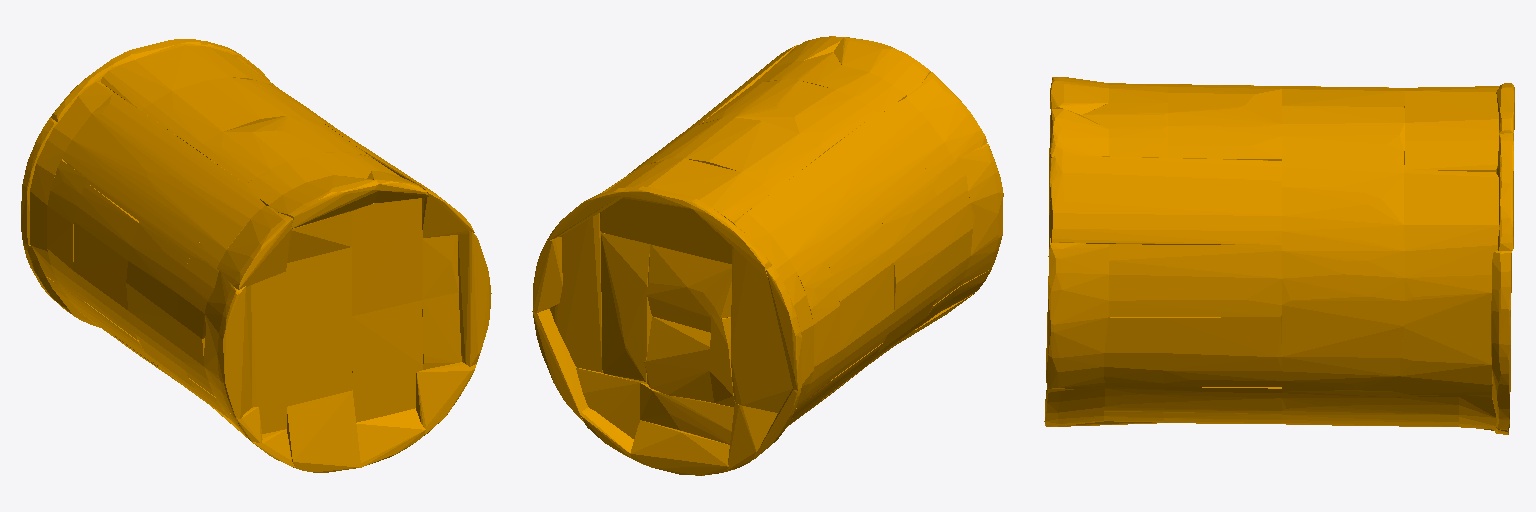
robot.urdf — can-concentrated:
<?xml version="1.0" ?>
<robot name="can-concentrated">
  <link name="baseLink">
    <contact>
      <lateral_friction value="1.0"/>
      <inertia_scaling value="3.0"/>
    </contact>
    <inertial>
      <origin rpy="0 0 0" xyz="0.000 0.000 0.000"/>
       <mass value=".1"/>
       <inertia ixx="1" ixy="0.0" ixz="0.0" iyy="1" iyz="0.0" izz="1"/>
    </inertial>
    <visual>
      <origin rpy="0 0 0" xyz="0 0 0"/>
      <geometry>
        <mesh filename="can/can-concentrated_tall.obj" scale="1.0 1.0 1.0"/>
      </geometry>
    </visual>
    <collision>
      <origin rpy="0 0 0" xyz="0 0 0"/>
      <geometry>
        <mesh filename="../collision/can/can-concentrated_tall.obj" scale="1.0 1.0 1.0"/>
      </geometry>
    </collision>
  </link>
</robot>
        

--- Render facts (derived) ---
The picture shows the robot from 3 angles, left to right: view 1: azimuth 30°, elevation 25°; view 2: azimuth 150°, elevation 25°; view 3: azimuth 270°, elevation 25°; orthographic projection.
Robot: can-concentrated — 1 links, 0 joints (none); root link baseLink; default pose: every joint at zero.
Links seen in each view (by area): view 1: baseLink; view 2: baseLink; view 3: baseLink.
Boxes of the visible links, left/top/right/bottom form: baseLink: left=21, top=39, right=491, bottom=472; baseLink: left=532, top=36, right=1003, bottom=475; baseLink: left=1044, top=77, right=1514, bottom=434.
Bounding box of the posed robot: 0.0547 × 0.0733 × 0.0552 m (x, y, z).
Meshes: 1 distinct files referenced, 1 mesh visuals loaded (1 OBJ).